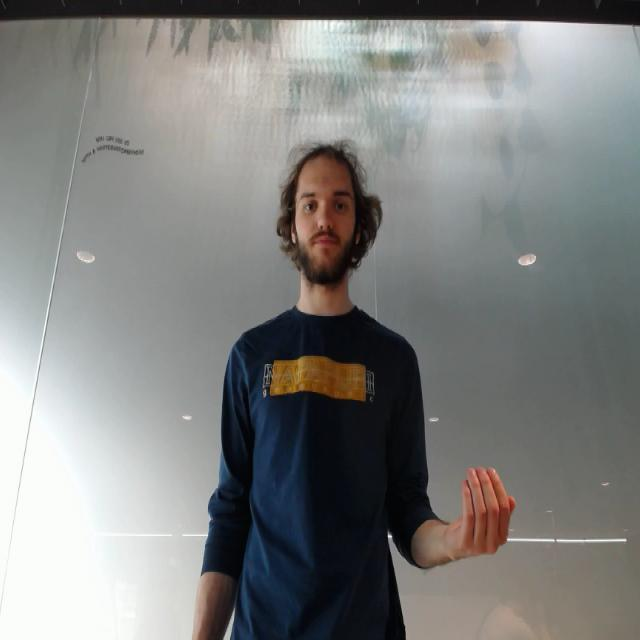forward: (451, 459, 518, 559)
